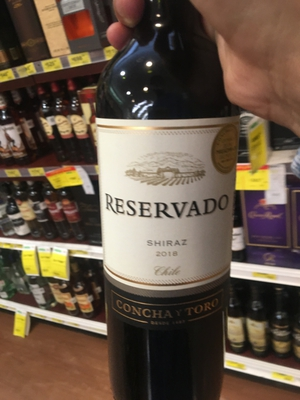reservado shiraz: (92, 19, 257, 400)
